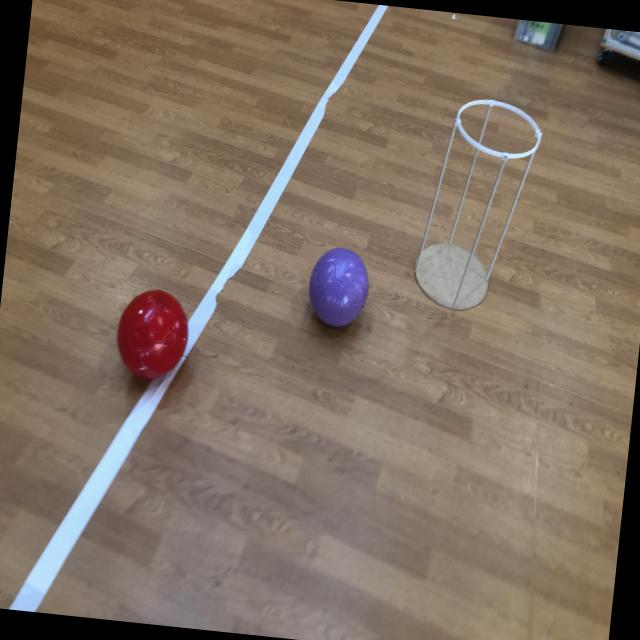purple_ball: (303, 242, 374, 332)
red_ball: (111, 286, 193, 382)
